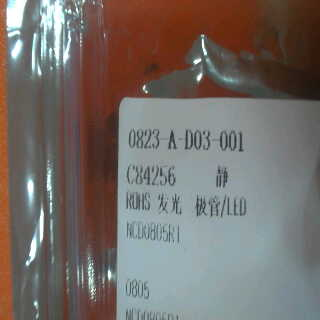LED: (152, 192, 252, 219)
